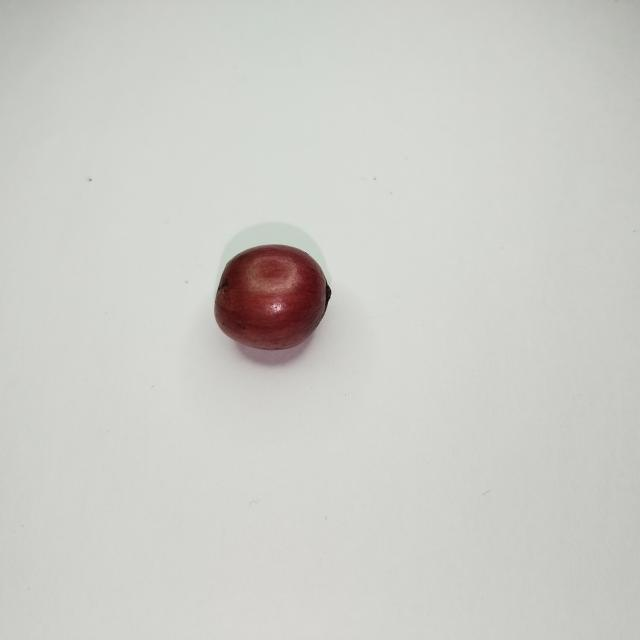Sano: (215, 244, 330, 351)
